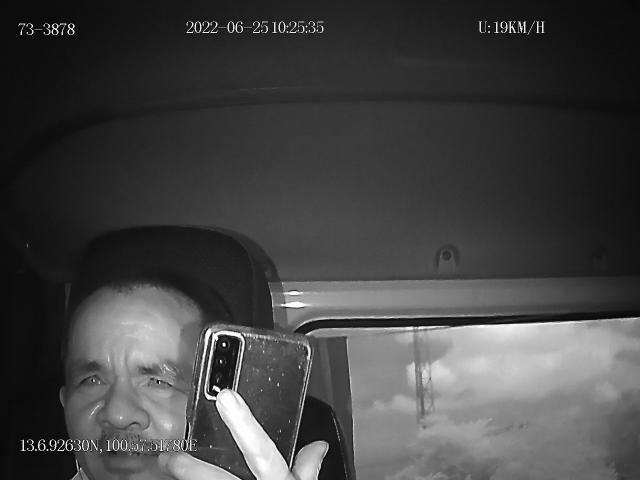PhoneUse: (185, 320, 312, 480)
SafeDriving: (70, 360, 114, 396), (134, 363, 182, 396)
